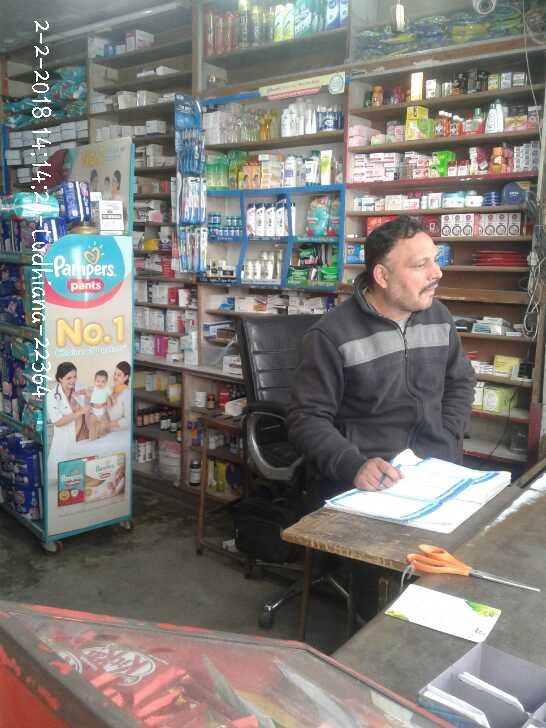oralcare: (170, 91, 206, 270)
vicks: (211, 211, 244, 233)
